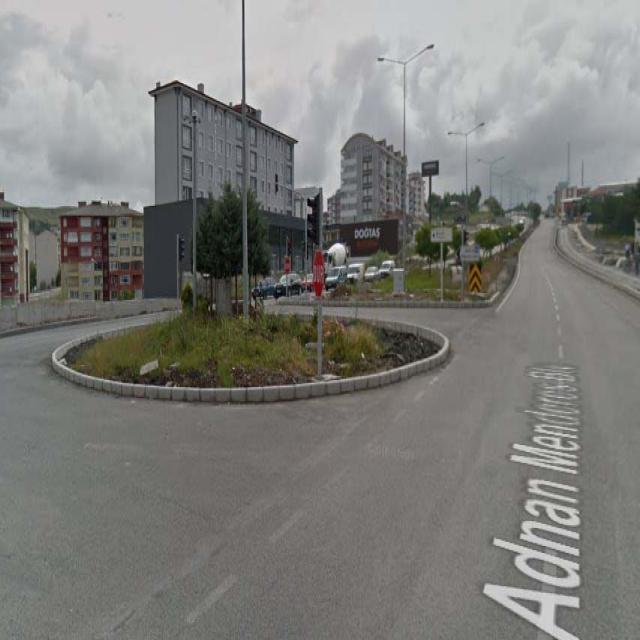dur: (310, 253, 326, 297)
